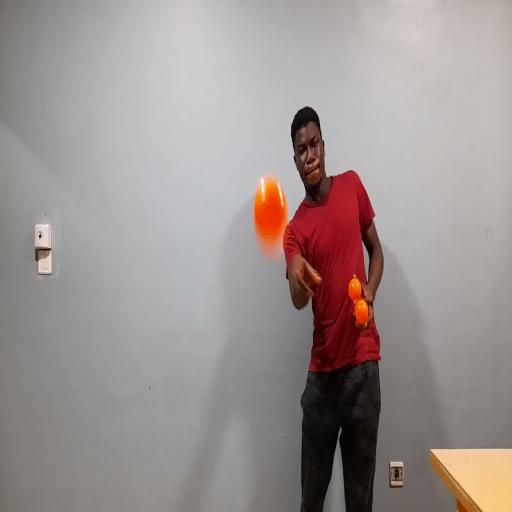plastic-ball: (237, 162, 301, 268)
